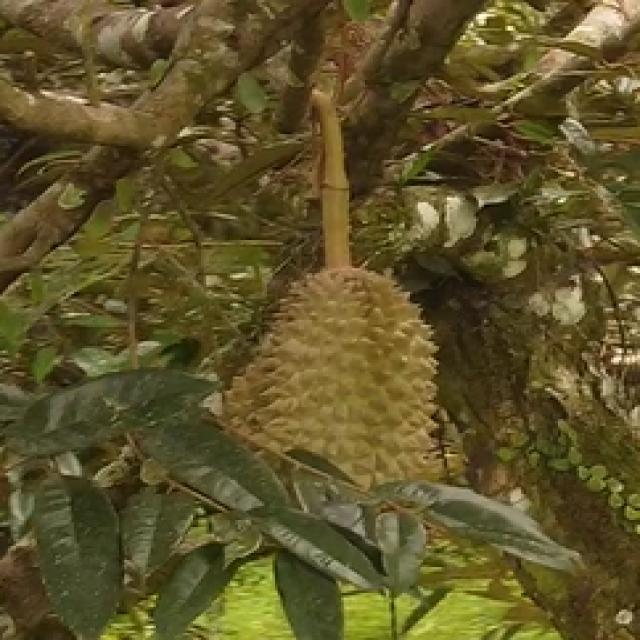mature: (217, 272, 443, 540)
